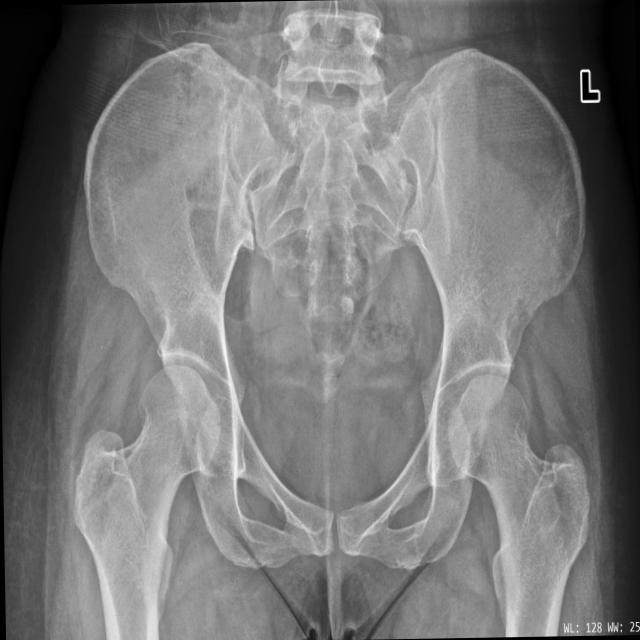normal-left: (447, 372, 590, 637)
normal-right: (74, 364, 220, 640)
